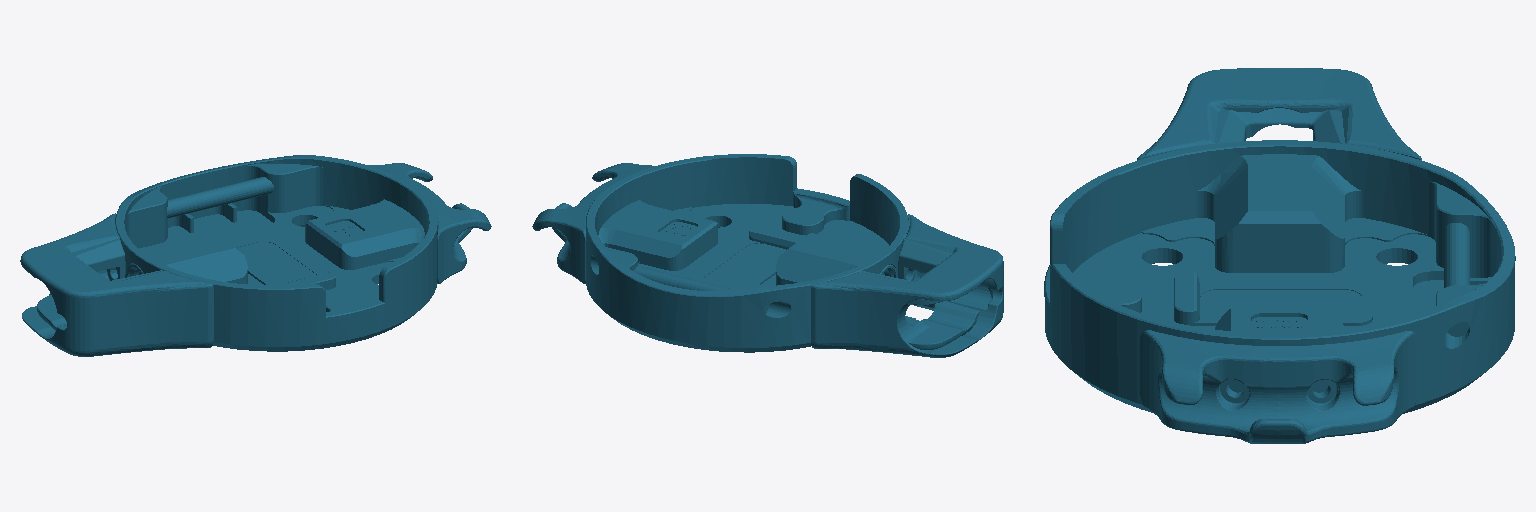
URDF robot description (onrobot_vg10):
<?xml version="1.0" ?>
<!-- =================================================================================== -->
<!-- |    This document was autogenerated by xacro from /home/rokey/rokey_cobot3/ros2_vg10_gripper/urdf/vg10.xacro | -->
<!-- |    EDITING THIS FILE BY HAND IS NOT RECOMMENDED                                 | -->
<!-- =================================================================================== -->
<robot name="onrobot_vg10">
  <link name="tool0"/>
  <link name="vg10_quick_changer">
    <visual>
      <origin rpy="-1.5707963267948966 0 -1.5707963267948966" xyz="0 0 0"/>
      <geometry>
        <mesh filename="package://ros2_vg10_gripper/meshes/quick_changer.stl" scale="0.001 0.001 0.001"/>
      </geometry>
      <material name="blue">
        <color rgba="0.196078431 0.462745098 0.560784314 1.0"/>
      </material>
    </visual>
    <!-- In practice, this mounting bracket will never collide with anything.  -->
    <!-- <collision> -->
    <!-- TODO(elvout): This could probably be a cylinder to reduce computational load. -->
    <!-- <origin xyz="0 0 0" rpy="${-pi/2} 0 ${-pi/2}" /> -->
    <!-- <geometry> -->
    <!-- <mesh filename="package://neo_mpo_700-2/robot_model/meshes/vg10_quick_changer.stl"
    scale="0.001 0.001 0.001"/> -->
    <!-- </geometry> -->
    <!-- </collision> -->
  </link>
  <link name="vg10">
    <visual>
      <origin rpy="-1.5707963267948966 0 -1.5707963267948966" xyz="0 0 0"/>
      <geometry>
        <mesh filename="package://ros2_vg10_gripper/meshes/vg10.stl" scale="0.001 0.001 0.001"/>
      </geometry>
      <material name="gray">
        <color rgba="0.5 0.5 0.5 1.0"/>
      </material>
    </visual>
    <collision>
      <!-- <origin xyz="0 0 0" rpy="${-pi/2} 0 ${-pi/2}" />
      <geometry>
        <mesh filename="package://ros2_vg10_gripper/meshes/vg10.stl" scale="0.001 0.001 0.001"/>
      </geometry> -->
      <!-- IMPORTANT: ALWAYS VERIFY COLLISION BOUNDARY IN RVIZ -->
      <!--
      Using a bounding box because the tolerance of the gripper's rounded edges
      are very small. The precision required to avoid a collision is very high.
      The corners of the box add some safety buffer space. Could be made more
      precise with a convex hull with some safety margin.
      -->
      <!-- True z-length is 0.1186 -->
      <origin rpy="0 0 0" xyz="0 0 0.07499999999999998"/>
      <geometry>
        <box size="0.146 0.146 0.09"/>
      </geometry>
    </collision>
  </link>
  <link name="vg10_grasp_center"/>
  <joint name="vg10_quick_changer_joint" type="fixed">
    <parent link="tool0"/>
    <child link="vg10_quick_changer"/>
    <origin rpy="0 0 0" xyz="0 0 0"/>
  </joint>
  <joint name="vg10_mount_joint" type="fixed">
    <parent link="vg10_quick_changer"/>
    <child link="vg10"/>
    <!-- The mesh has a built-in offset. -->
    <origin rpy="0 0 0" xyz="0 0 0"/>
  </joint>
  <joint name="vg10_grasp_center_joint" type="fixed">
    <parent link="vg10"/>
    <child link="vg10_grasp_center"/>
    <!-- Derived from gripper + quick changer datasheets. -->
    <origin rpy="0 0 0" xyz="0 0 0.1186"/>
  </joint>
</robot>

--- What the picture shows (computed from the rendered views, not written in the file) ---
The picture shows the robot from 3 angles, left to right: view 1: azimuth 30°, elevation 25°; view 2: azimuth 150°, elevation 25°; view 3: azimuth 270°, elevation 25°; orthographic projection.
Robot: onrobot_vg10 — 4 links, 3 joints (3 fixed); root link tool0; default pose: every joint at zero.
Links seen in each view (by area): view 1: vg10_quick_changer; view 2: vg10_quick_changer; view 3: vg10_quick_changer.
Link boxes in pixels (<box>): vg10_quick_changer: <box>20,155,491,356</box>; vg10_quick_changer: <box>532,154,1003,357</box>; vg10_quick_changer: <box>1044,68,1515,443</box>.
Size in the robot's own frame: 0.1088 by 0.071 by 0.0171 metres.
Meshes: 2 distinct files referenced, 1 mesh visuals loaded (1 binary STL); not drawn: 1 (reference not matched to a file when rendering).
